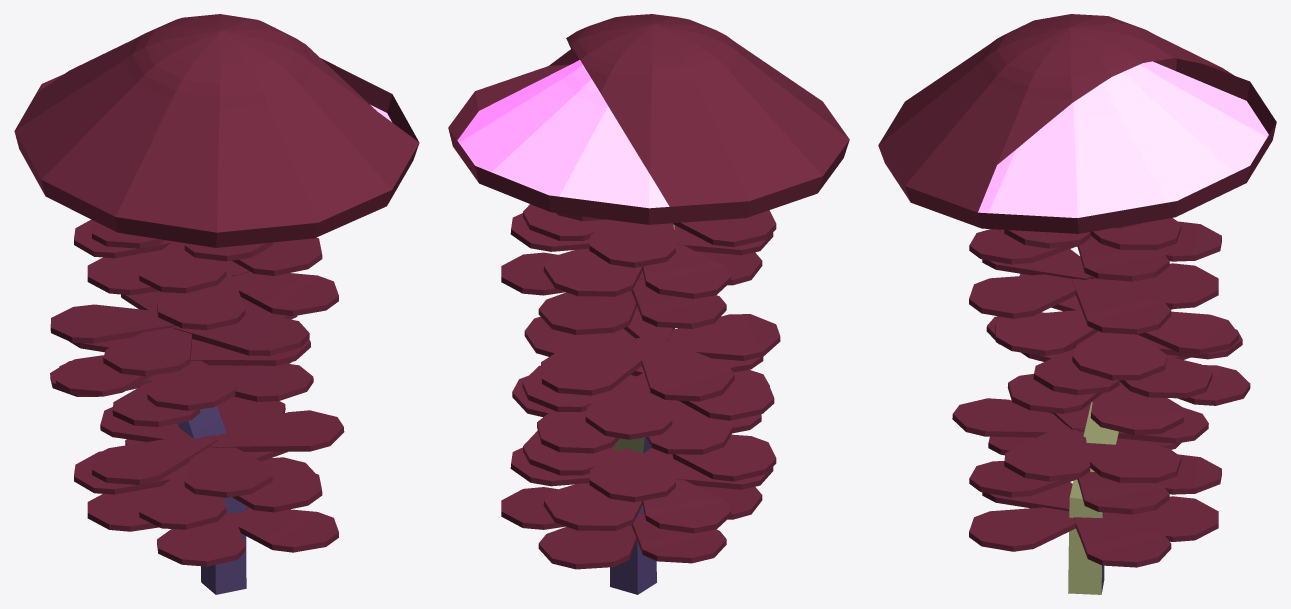
Rendered from PetalTreeWithTopFinal.fbx.
3 views of the same model, side by side, from view 1: azimuth 30°, elevation 25°; view 2: azimuth 150°, elevation 25°; view 3: azimuth 270°, elevation 25° (orthographic).
Visible parts, largest first — view 1: TreeTop; view 2: TreeTop; view 3: TreeTop.
Boxes of the visible parts, x1,y1,x2,y2 form: TreeTop: (14, 14, 419, 594); TreeTop: (448, 14, 849, 594); TreeTop: (878, 14, 1276, 594).
Bounding box in the file's own units: 628 × 963 × 627.
